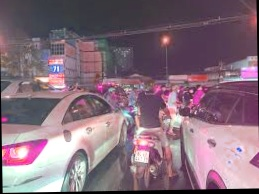Bien-so: (133, 150, 149, 164)
